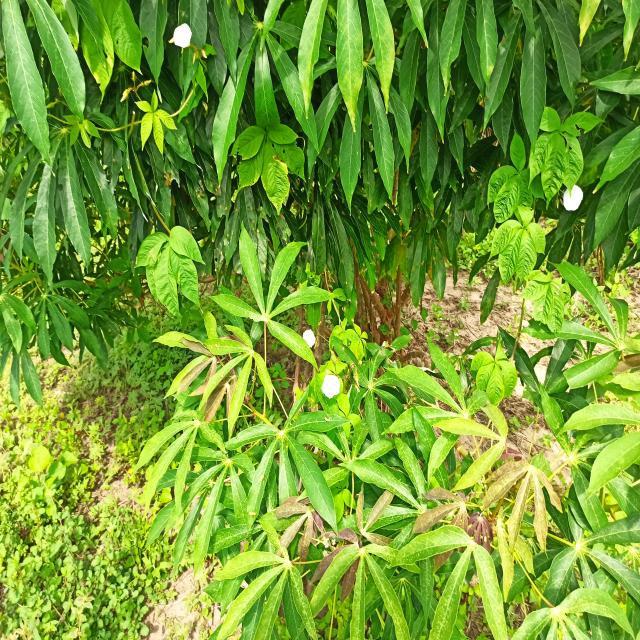Maleza: (9, 413, 134, 639), (479, 158, 552, 275), (233, 125, 309, 208), (524, 106, 585, 193), (140, 224, 201, 309), (521, 265, 570, 330), (129, 88, 171, 149)
Mosaico: (423, 488, 500, 538), (280, 501, 321, 560)
Mosca: (245, 508, 258, 519), (319, 414, 331, 424), (257, 472, 267, 481)
